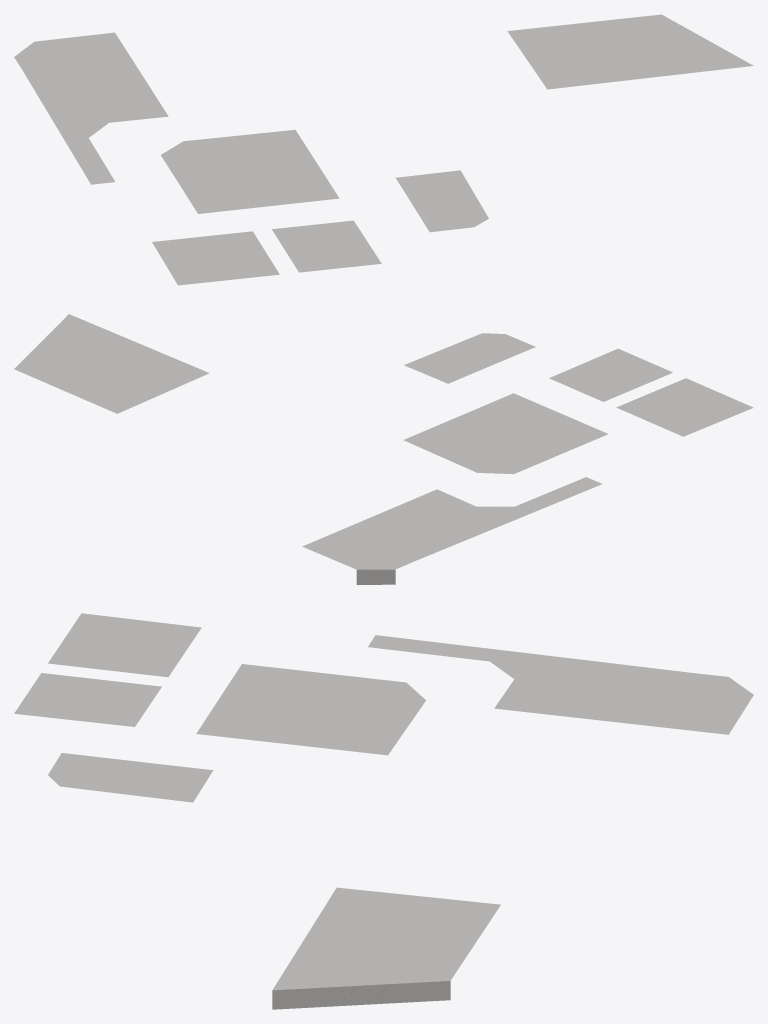
File: kd_stage_1364a3_4_0.glb
The picture shows the model from 3 angles, top to bottom: view 1: azimuth 30°, elevation 25°; view 2: azimuth 150°, elevation 25°; view 3: azimuth 270°, elevation 25°; orthographic projection. The views are drawn at different scales.
Visible parts, largest first — view 1: kd_stage_1364a3_4_0; view 2: kd_stage_1364a3_4_0; view 3: kd_stage_1364a3_4_0.
Part boxes in pixels (x1,y1,x2,y2): kd_stage_1364a3_4_0: (14, 14, 753, 285); kd_stage_1364a3_4_0: (14, 314, 753, 584); kd_stage_1364a3_4_0: (14, 613, 753, 1009).
Size of the model in its own units: 98.73 by 2.36 by 81.87.
1 material, 1 textured.
